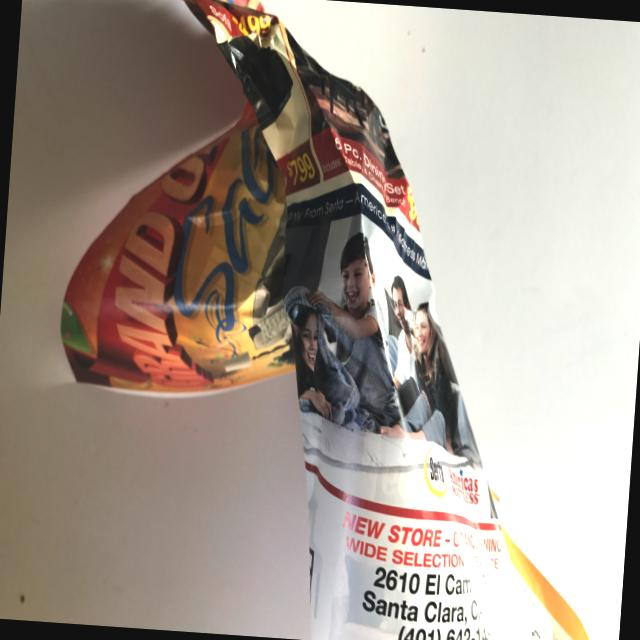Paper: (41, 0, 635, 640)
